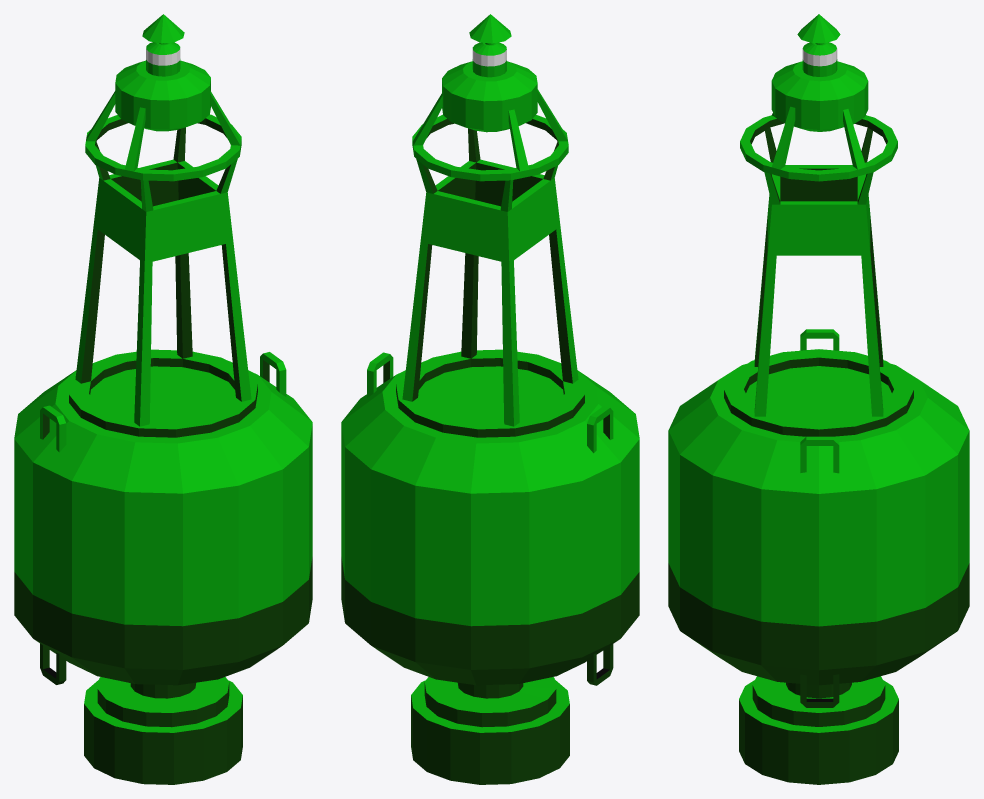
Rendered from buoy_b.glb.
3 renders of one model, left to right at view 1: azimuth 30°, elevation 25°; view 2: azimuth 150°, elevation 25°; view 3: azimuth 270°, elevation 25°, orthographic.
Parts seen in each view (by area): view 1: buoy_lowpoly.001; view 2: buoy_lowpoly.001; view 3: buoy_lowpoly.001.
Part boxes in pixels (left/top/right/bottom): buoy_lowpoly.001: left=14, top=14, right=312, bottom=784; buoy_lowpoly.001: left=341, top=14, right=639, bottom=784; buoy_lowpoly.001: left=668, top=14, right=969, bottom=784.
Size of the model in its own units: 2.11 by 5.71 by 2.11.
Materials: 1 (1 with a texture image).
